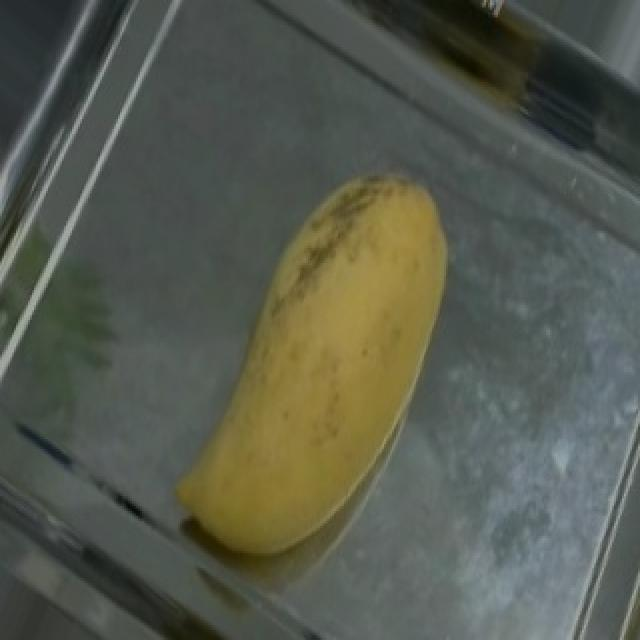fruit: (196, 129, 512, 511)
